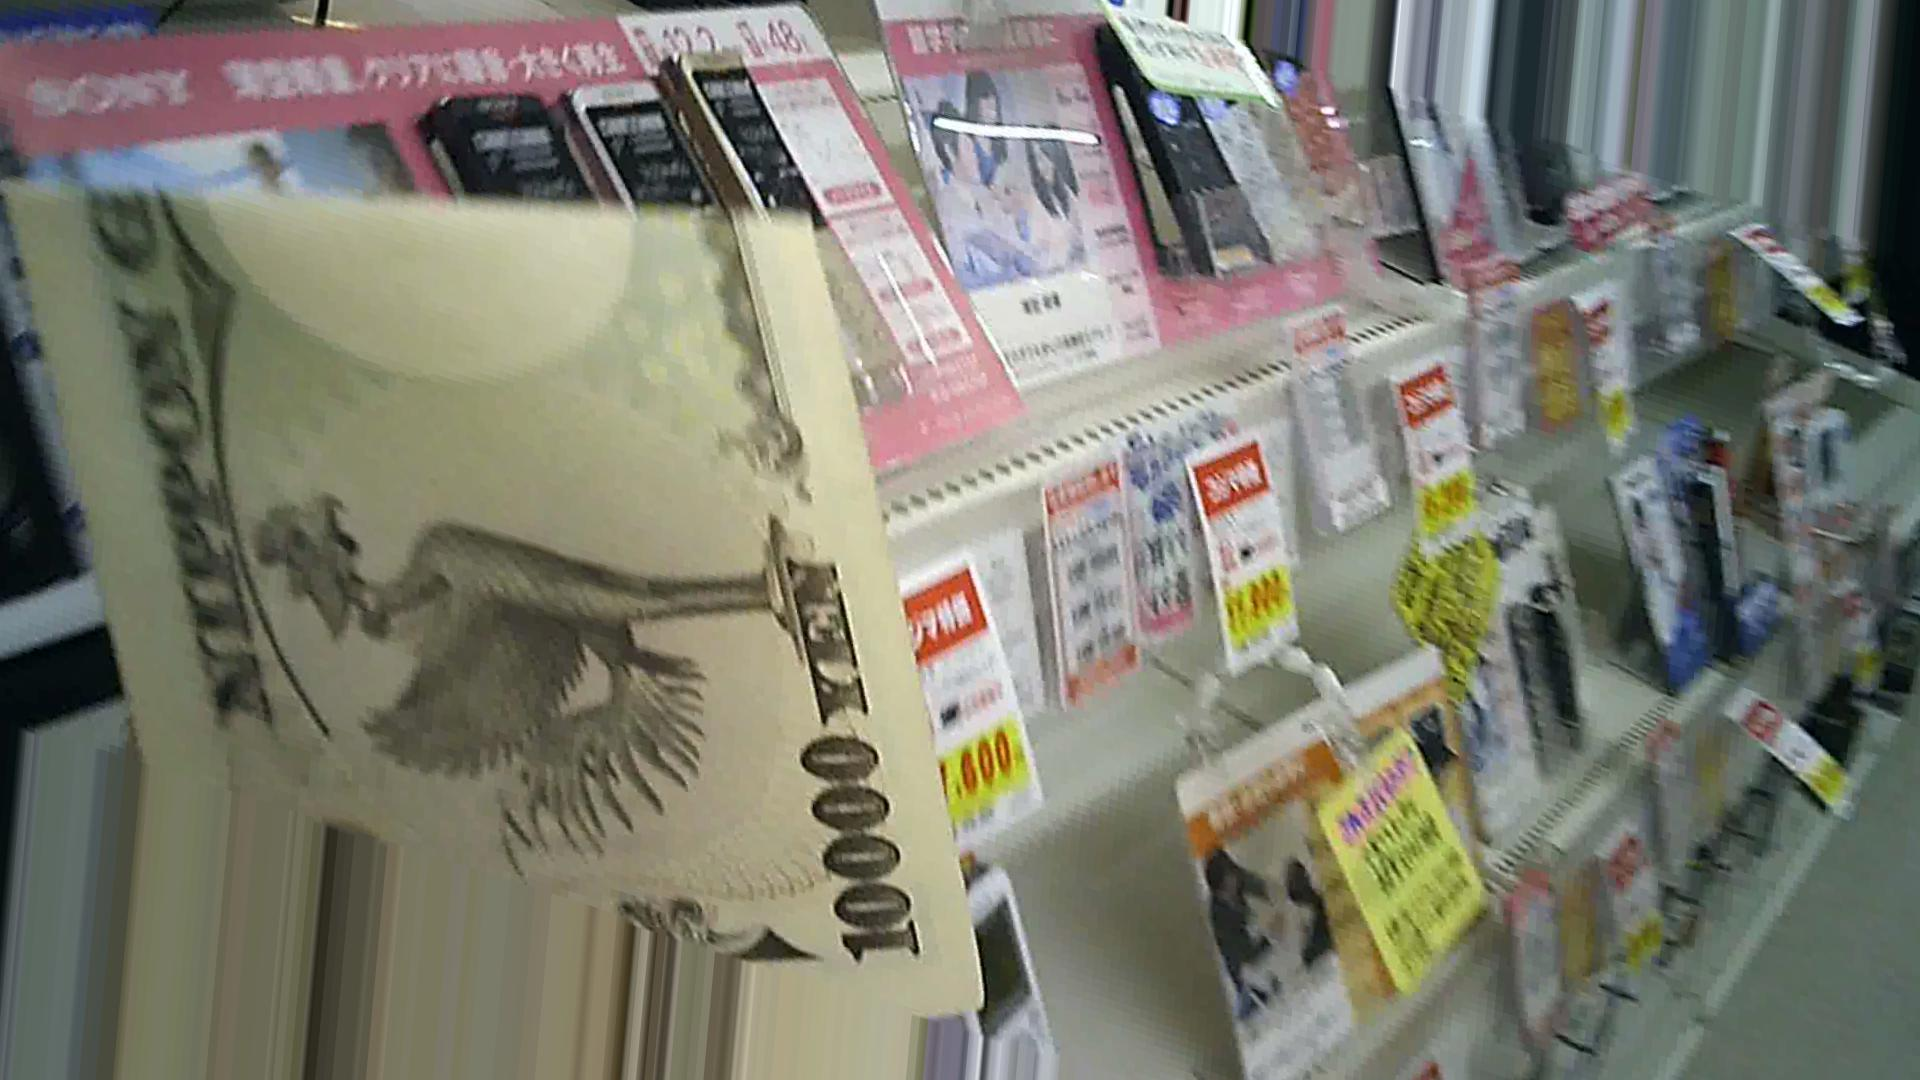10,000 Yen: (3, 165, 1054, 1054)
